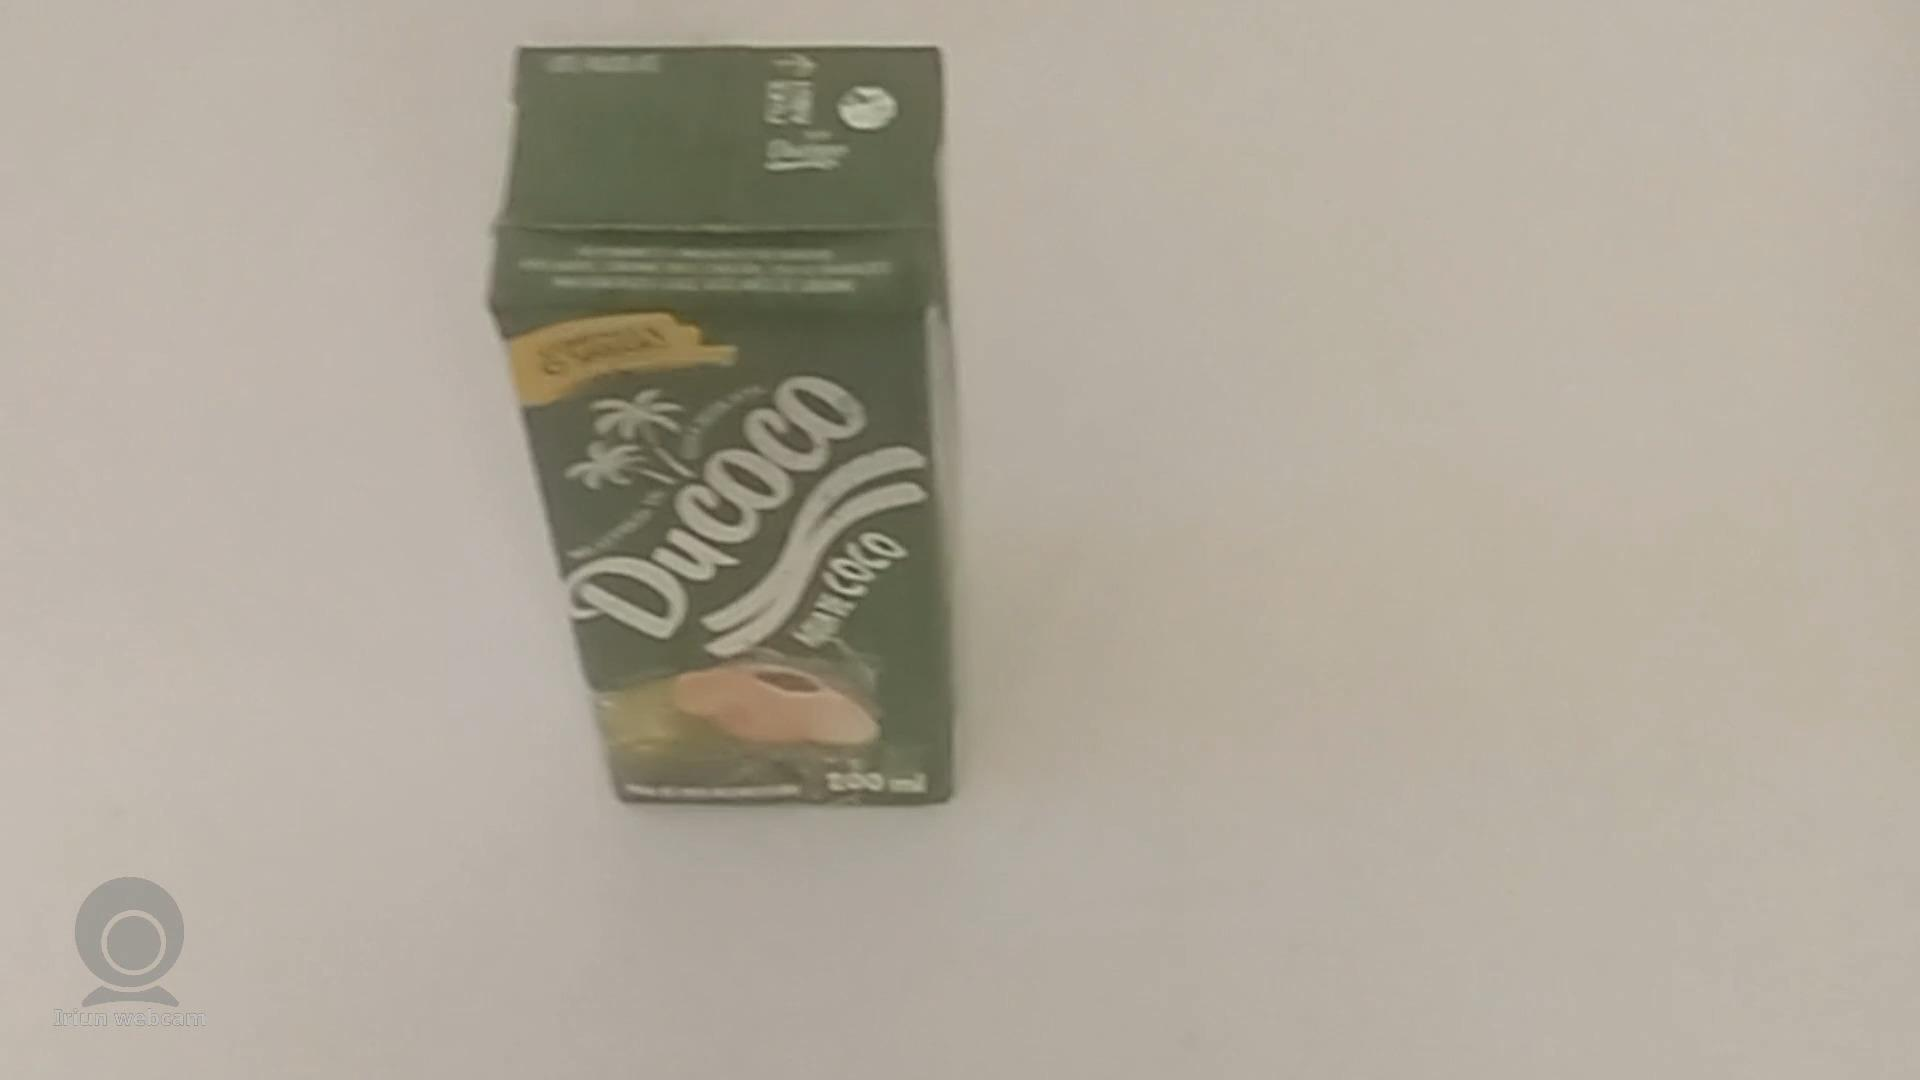coco: (491, 42, 965, 819)
